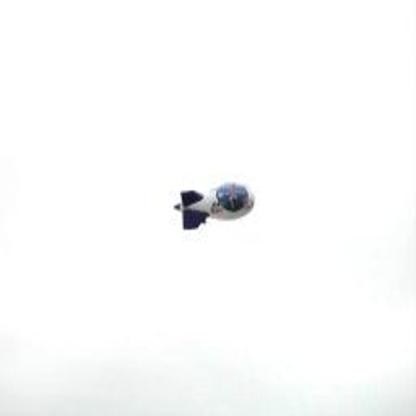Airship: (172, 180, 260, 234)
